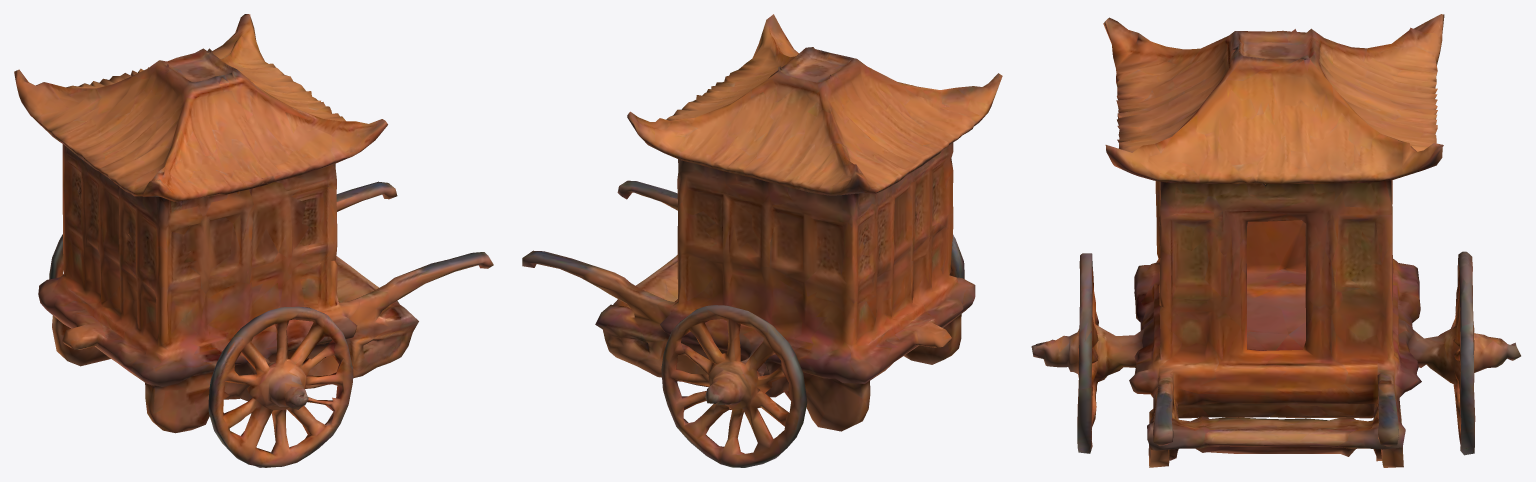
File: lib_cart.lod.glb
3 renders of one model, left to right at view 1: azimuth 30°, elevation 25°; view 2: azimuth 150°, elevation 25°; view 3: azimuth 270°, elevation 25°, orthographic. The views are drawn at different scales.
Size of the model in its own units: 1.96 by 1.72 by 1.88.
Materials: 1 (1 with a texture image).
